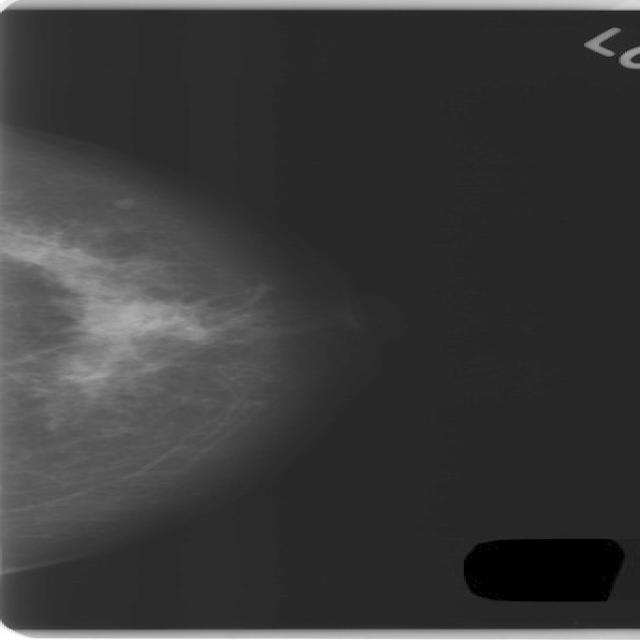tumour: (75, 294, 213, 344)
